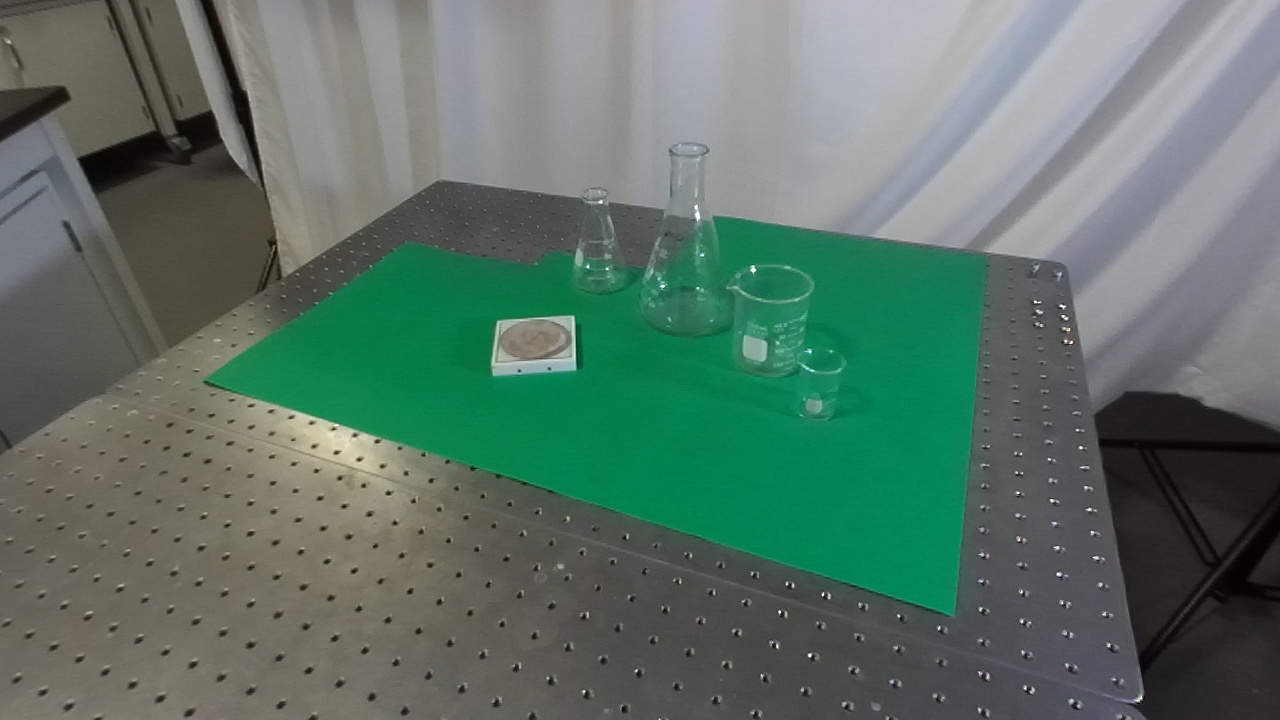glass: (635, 136, 742, 342), (724, 261, 819, 382), (567, 185, 632, 298), (791, 341, 852, 422)
plate: (486, 313, 581, 382)
